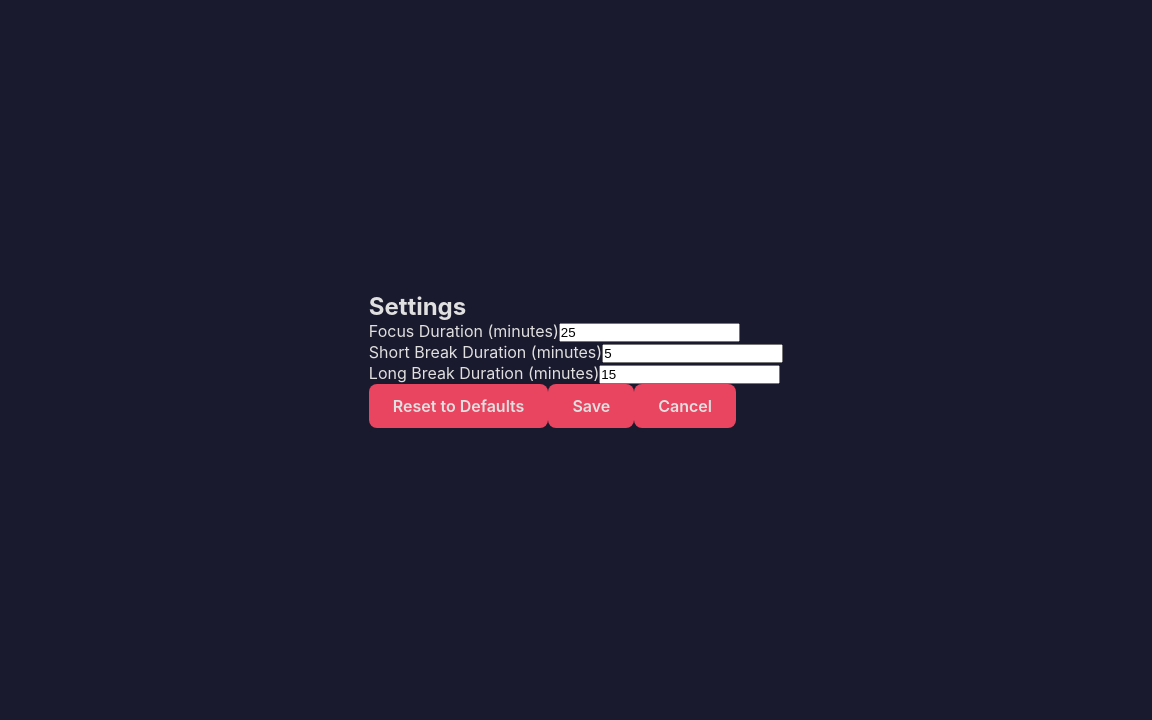
it: Settings › has a Reset to Defaults button that restores 25/5/15
Replace the text in the number field labelled "Focus Duration (minutes)" with "50" at (649, 332), box [559, 323, 740, 342]
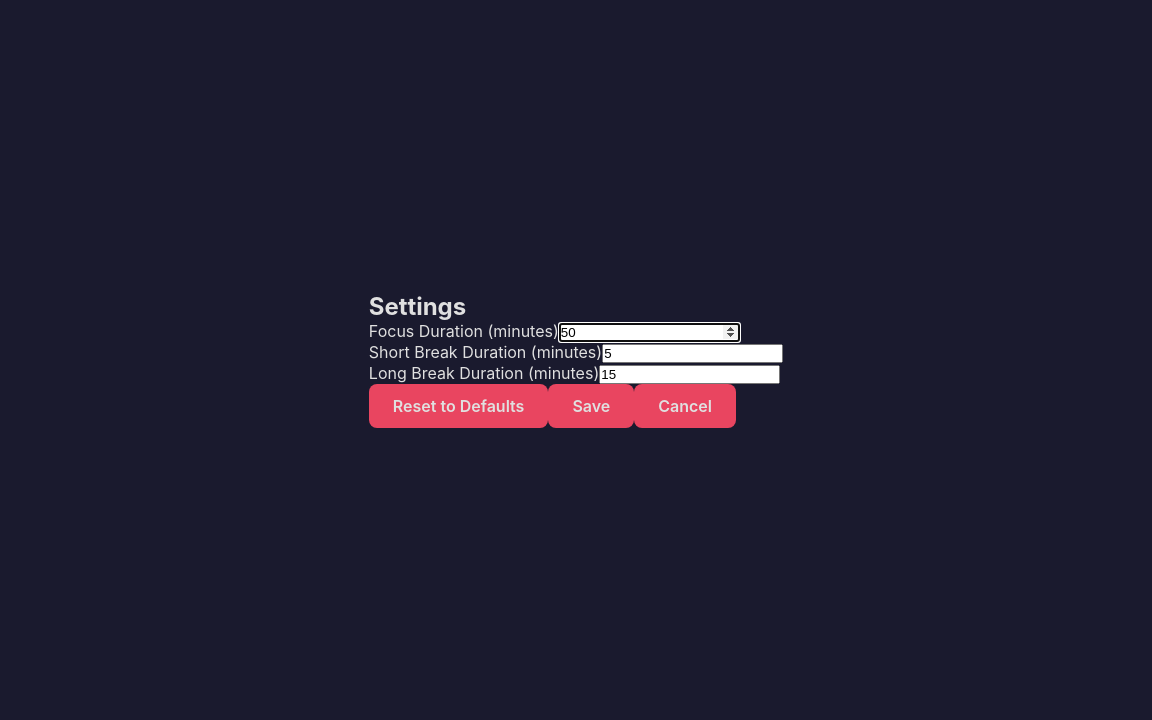
Click the button "Reset to Defaults".
click(459, 406)  # box [369, 384, 548, 428]
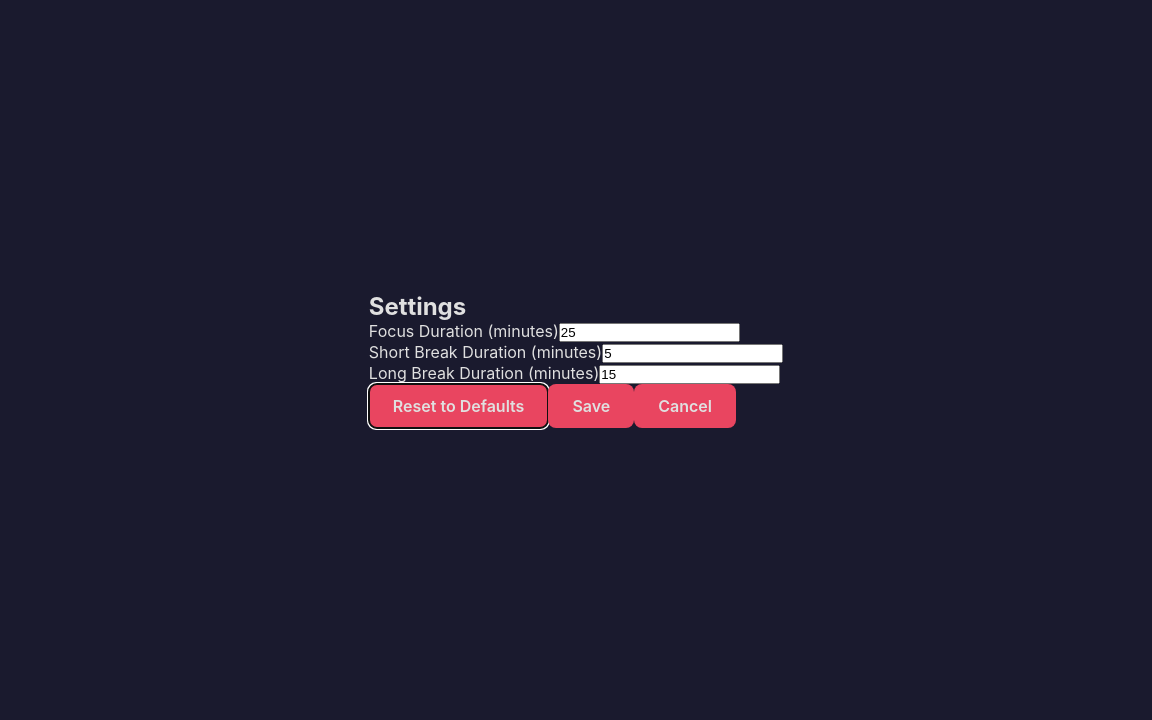
Expected: the number field labelled "Short Break Duration (minutes)" holds "5", [602, 344, 783, 363]
Expected: the number field labelled "Focus Duration (minutes)" holds "25", [559, 323, 740, 342]
